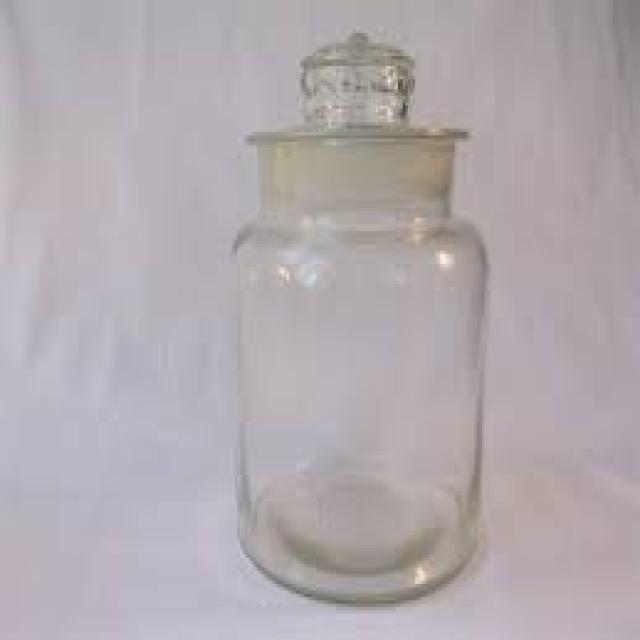glass: (230, 30, 482, 604)
